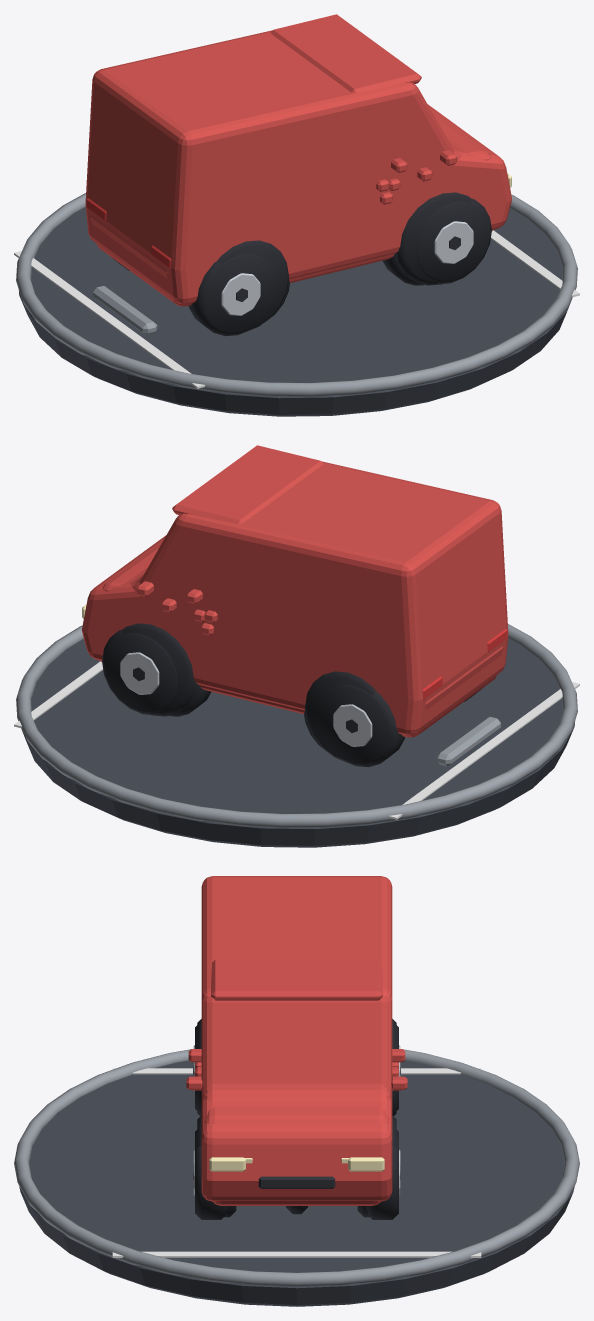
File: garage-kit.glb
The picture shows the model from 3 angles, top to bottom: view 1: azimuth 30°, elevation 25°; view 2: azimuth 150°, elevation 25°; view 3: azimuth 270°, elevation 25°; orthographic projection.
Visible parts, largest first — view 1: car-van, spot, car-suv, car-wagon, car-hatchback, car-mpv; view 2: car-van, spot, car-suv, car-wagon, car-hatchback, car-mpv; view 3: spot, car-van, car-suv, car-sedan.
Boxes of the visible parts, x1,y1,x2,y2 form: car-van: (85, 14, 511, 336); spot: (14, 193, 579, 416); car-suv: (217, 112, 491, 329); car-wagon: (90, 215, 191, 306); car-hatchback: (264, 179, 424, 322); car-mpv: (289, 167, 432, 282); car-van: (82, 445, 508, 767); spot: (14, 624, 579, 847); car-suv: (102, 543, 376, 760); car-wagon: (100, 646, 503, 737); car-hatchback: (169, 610, 329, 753); car-mpv: (161, 598, 304, 713); spot: (14, 1049, 579, 1306); car-van: (186, 876, 407, 1219); car-suv: (188, 1019, 405, 1147); car-sedan: (195, 1067, 398, 1217).
Size of the model in its own units: 2.61 by 1.24 by 2.61.
